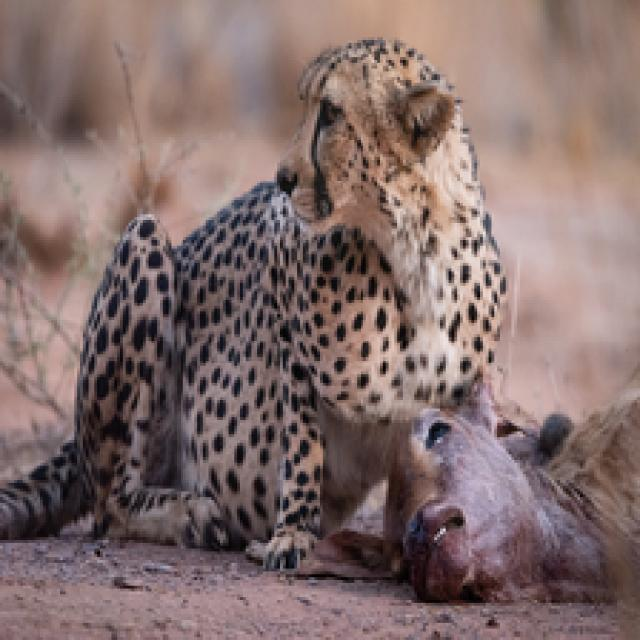cheetah: (72, 7, 533, 588)
